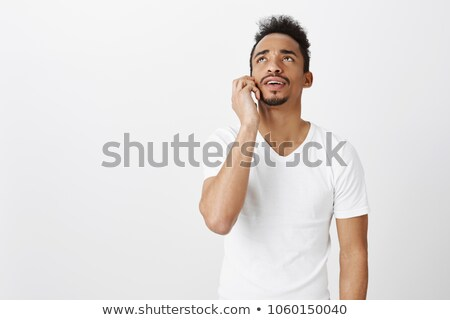phone: (236, 70, 262, 105)
talk: (230, 44, 298, 122)
